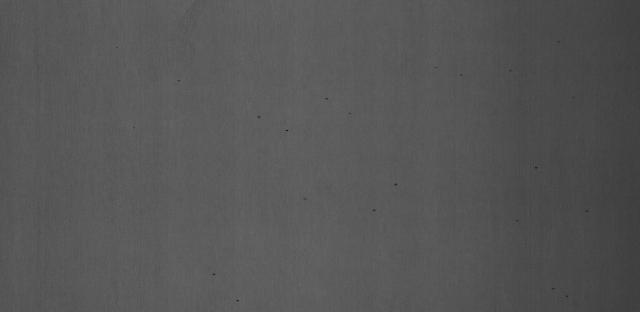inclusion: (237, 102, 269, 124), (277, 121, 298, 142), (293, 190, 317, 207), (578, 202, 596, 221), (313, 88, 335, 103), (360, 203, 382, 218), (388, 177, 410, 191), (528, 163, 544, 177), (210, 267, 224, 281), (227, 298, 245, 308)
